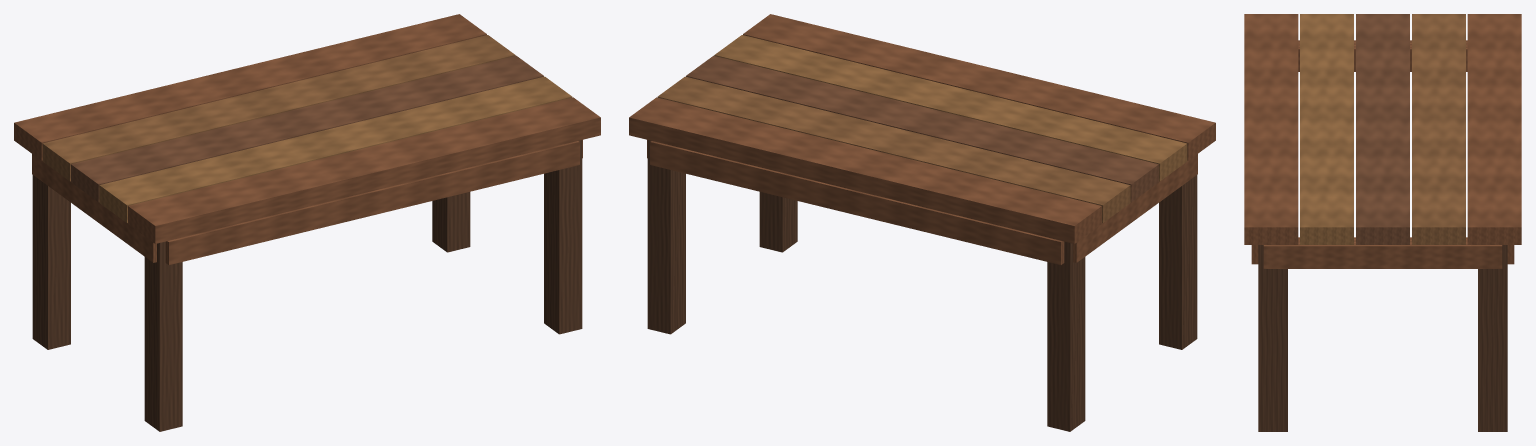
File: table.glb
3 renders of one model, left to right at view 1: azimuth 30°, elevation 25°; view 2: azimuth 150°, elevation 25°; view 3: azimuth 270°, elevation 25°, orthographic.
Visible parts, largest first — view 1: table; view 2: table; view 3: table.
Part boxes in pixels (x1,y1,x2,y2): table: (14,14,600,431); table: (629,14,1215,431); table: (1244,14,1521,431).
Bounding box in the file's own units: 1.7 × 0.78 × 0.9342.
1 material, 1 textured.
